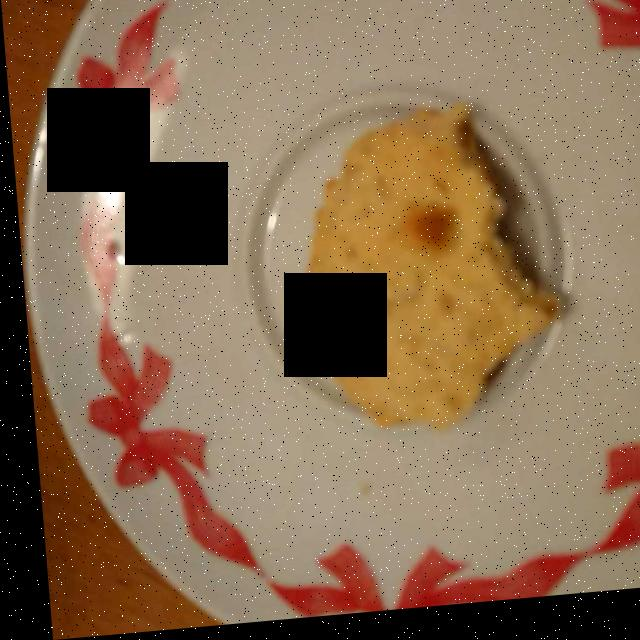cookies: (304, 118, 543, 434)
